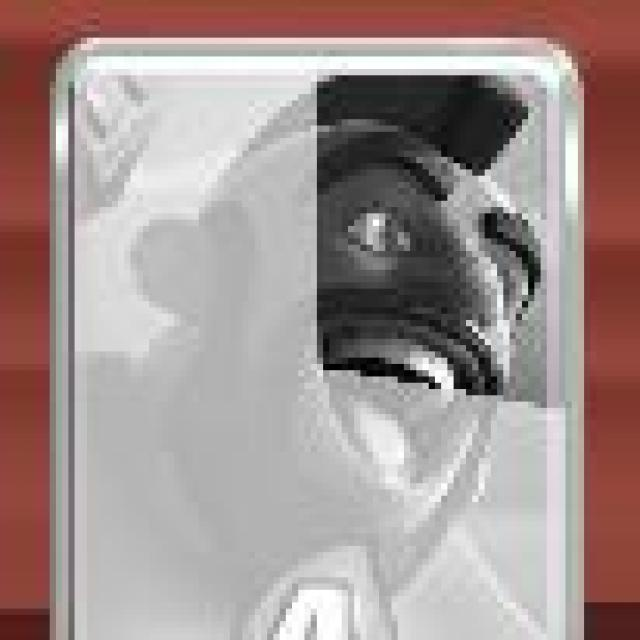Hog_Rider: (50, 43, 580, 640)
